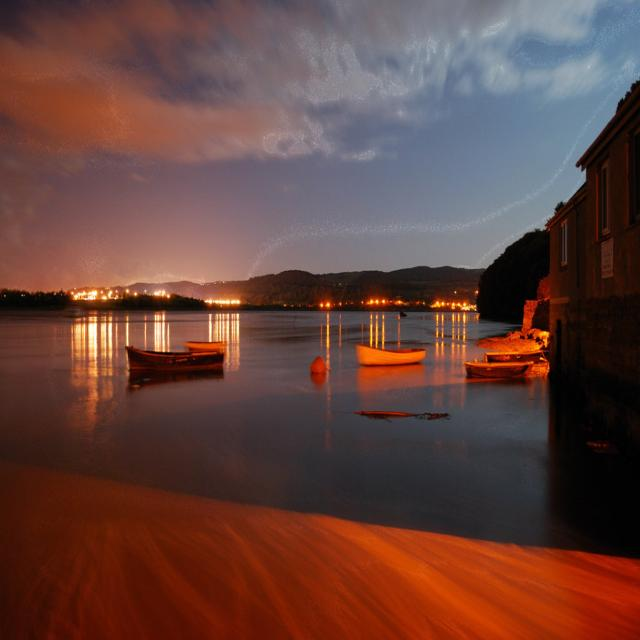Boat: (357, 310, 437, 383), (116, 347, 234, 392), (456, 330, 562, 380)
